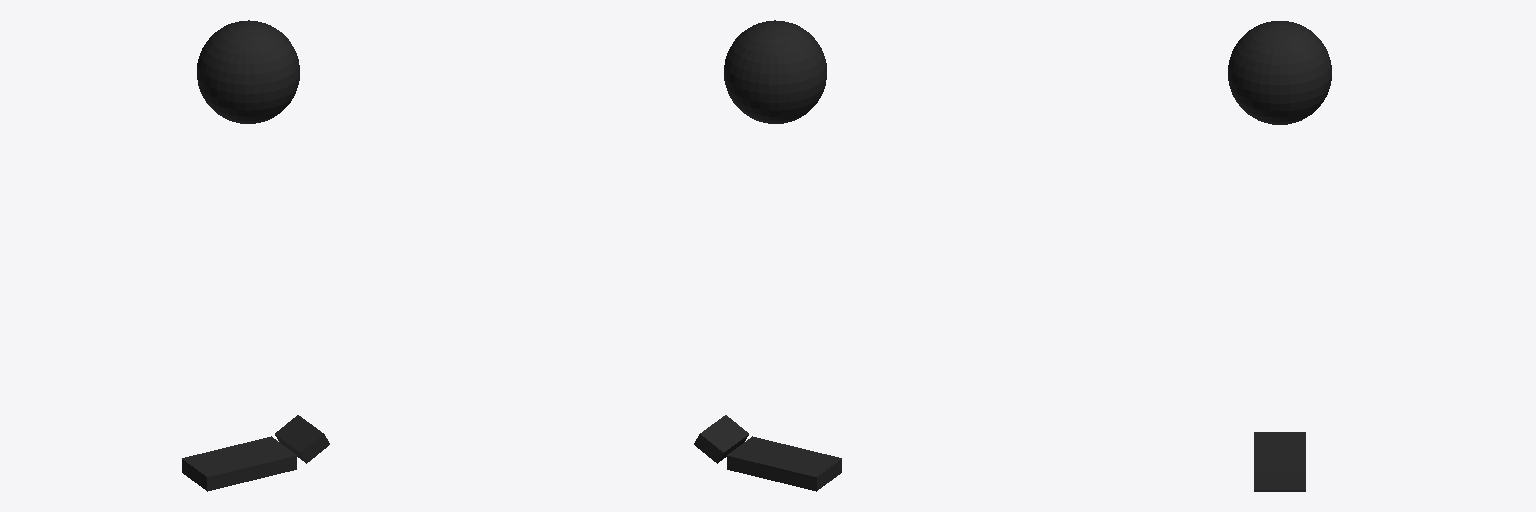
URDF robot description (DHAL):
<robot name="DHAL" xmlns:xacro="http://www.ros.org/wiki/xacro">
    <material name="black">
        <color rgba="0.0 0.0 0.0 1.0"/>
    </material>
    <material name="blue">
        <color rgba="0.0 0.0 0.8 1.0"/>
    </material>
    <material name="green">
        <color rgba="0.0 0.8 0.0 1.0"/>
    </material>
    <material name="grey">
        <color rgba="0.2 0.2 0.2 1.0"/>
    </material>
    <material name="silver">
        <color rgba="0.913725490196 0.913725490196 0.847058823529 1.0"/>
    </material>
    <material name="orange">
        <color rgba="1.0 0.423529411765 0.0392156862745 1.0"/>
    </material>
    <material name="brown">
        <color rgba="0.870588235294 0.811764705882 0.764705882353 1.0"/>
    </material>
    <material name="red">
        <color rgba="0.8 0.0 0.0 1.0"/>
    </material>
    <material name="white">
        <color rgba="1.0 1.0 1.0 1.0"/>
    </material>

    <link name="Thigh">
        <visual>
            <origin rpy="0 0 0" xyz="0 0 0"/>
            <geometry>
                <mesh filename="URDF_Thigh_with_Link_verHopping1_Simplified.dae" scale="1 1 1"/>
            </geometry>
            <material name="grey"/>
        </visual>
        <collision>
            <origin rpy="0 0 0" xyz="0 -0.04 -0.14"/>
            <geometry>
                <box size="0.1 0.02 0.26"/>
            </geometry>
        </collision>
        <collision>
            <origin rpy="0 0 0" xyz="0 0.06 -0.14"/>
            <geometry>
                <box size="0.1 0.06 0.26"/>
            </geometry>
        </collision>
        <inertial>
            <origin rpy="0 0 0" xyz="0.001815 0.027609 -0.115412"/>
            <mass value="4.157590"/>
            <inertia ixx="0.077120" ixy="-0.000030" ixz="-0.001298" iyy="0.076206" iyz="-0.012889" izz="0.014845"/>
        </inertial>
    </link>

    <joint name="00_knee_joint" type="revolute">
        <origin rpy="0 0 0" xyz="0 0 -0.2523"/>
        <parent link="Thigh"/>
        <child link="Calf"/>
        <axis xyz="0 1 0"/>
        <limit effort="600.0" velocity="9.0" lower="0" upper="2.26893"/>
    </joint>
    <link name="Calf">
        <visual>
            <origin rpy="0 0 0" xyz="0 0 0"/>
            <geometry>
                <mesh filename="URDF_Calf_with_Link_verHopping1_Simplified.dae" scale="1 1 1"/>
            </geometry>
            <material name="grey"/>
        </visual>
        <collision>
            <origin rpy="0 0 0" xyz="0 0 -0.205"/>
            <geometry>
                <box size="0.1 0.048 0.32"/>
            </geometry>
        </collision>
        <inertial>
            <origin rpy="0 0 0" xyz="0.000591 -0.000359 -0.160841"/>
            <mass value="4.035068"/>
            <inertia ixx="0.149211" ixy="-0.000002" ixz="0.002787" iyy="0.152336" iyz="-0.001299" izz="0.006886"/>
        </inertial>
    </link>

    <joint name="01_ankle_pitch_joint" type="revolute">
        <origin rpy="0 0 0" xyz="0 0 -0.41"/>
        <parent link="Calf"/>
        <child link="Universal"/>
        <axis xyz="0 1 0"/>
        <limit effort="200.0" velocity="9.0" lower="-0.872665" upper="0.698132"/>
        <dynamics damping="0.1"/>
    </joint>
    <link name="Universal">
        <visual>
            <origin rpy="0 0 0" xyz="0 0 0"/>
            <geometry>
                <mesh filename="URDF_Universal_verHopping1_Simplified.dae" scale="1 1 1"/>
            </geometry>
            <material name="grey"/>
        </visual>
        <inertial>
            <origin rpy="0 0 0" xyz="0 0 0"/>
            <mass value="0.209567"/>
            <inertia ixx="0.00048" ixy="0" ixz="0" iyy="0.000089" iyz="0" izz="0.000124"/>
        </inertial>
    </link>

    <joint name="02_ankle_roll_joint" type="revolute">
        <origin rpy="0 0 0" xyz="0 0 0"/>
        <parent link="Universal"/>
        <child link="Foot"/>
        <axis xyz="1 0 0"/>
        <limit effort="200.0" velocity="9.0" lower="-0.523599" upper="0.523599"/>
        <dynamics damping="0.1"/>
    </joint>
    <link name="Foot">
<!--        <visual>-->
<!--            <origin rpy="0 0 0" xyz="0 0 0"/>-->
<!--            <geometry>-->
<!--                <mesh filename="URDF_Foot_verHopping1_Simplified.dae" scale="1 1 1"/>-->
<!--            </geometry>-->
<!--            <material name="grey"/>-->
<!--        </visual>-->
        <visual>
            <origin rpy="0 0 0" xyz="-0.02 0 -0.065"/>
            <geometry>
                <!--                <box size="0.24 0.8 0.03"/>-->
                <box size="0.20 0.1 0.03"/>
            </geometry>
            <material name="grey"/>
        </visual>
        <visual>
            <origin rpy="0 -0.5 0" xyz="0.12 0 -0.045"/>
            <geometry>
                <box size="0.06 0.1 0.03"/>
            </geometry>
            <material name="grey"/>
        </visual>
        <collision>
            <origin rpy="0 0 0" xyz="-0.02 0 -0.065"/>
            <geometry>
<!--                <box size="0.24 0.8 0.03"/>-->
                <box size="0.20 0.1 0.03"/>
            </geometry>
        </collision>
        <collision>
            <origin rpy="0 -0.5 0" xyz="0.12 0 -0.045"/>
            <geometry>
                <box size="0.06 0.1 0.03"/>
            </geometry>
        </collision>
        <inertial>
            <origin rpy="0 0 0" xyz="-0.019703 -0.000021 -0.036108"/>
            <mass value="0.547532"/>
            <inertia ixx="0.001484" ixy="0.000001" ixz="-0.000019" iyy="0.003208" iyz="0" izz="0.002160"/>
        </inertial>
    </link>

    <joint name="03_temp_weight_joint" type="fixed">
        <origin rpy="0 0 0" xyz="0 0 0.1"/>
        <parent link="Thigh"/>
        <child link="Temp_Weight"/>
    </joint>
    <link name="Temp_Weight">
        <visual>
            <origin rpy="0 0 0" xyz="0 0 0"/>
            <geometry>
                <sphere radius="0.1"/>
            </geometry>
            <material name="grey"/>
        </visual>
        <collision>
            <origin rpy="0 0 0" xyz="0 0 0"/>
            <geometry>
                <sphere radius="0.1"/>
            </geometry>
        </collision>
        <inertial>
            <origin rpy="0 0 0" xyz="0 0 0"/>
            <mass value="5.0"/>
            <inertia ixx="0.02" ixy="0" ixz="0" iyy="0.02" iyz="0" izz="0.02"/>
        </inertial>
    </link>

</robot>

--- Facts derived from the render (not from the file) ---
3 views of the same robot in one strip: view 1: azimuth 30°, elevation 25°; view 2: azimuth 150°, elevation 25°; view 3: azimuth 270°, elevation 25° (orthographic).
Model DHAL with 5 links and 4 joints (3 revolute, 1 fixed), rooted at Thigh, posed every joint at zero.
Visible links, largest first — view 1: Temp_Weight, Foot; view 2: Temp_Weight, Foot; view 3: Temp_Weight, Foot.
Boxes of the visible links, box(x1,y1,x2,y2) form: Temp_Weight: box(197, 20, 299, 123); Foot: box(182, 415, 329, 491); Temp_Weight: box(724, 20, 826, 123); Foot: box(694, 415, 841, 491); Temp_Weight: box(1228, 21, 1331, 124); Foot: box(1254, 432, 1305, 491).
Size in the robot's own frame: 0.2735 by 0.2 by 0.9423 metres.
Meshes: 3 distinct files referenced, 0 mesh visuals loaded (none loaded); not drawn: 3 (reference not matched to a file when rendering).
